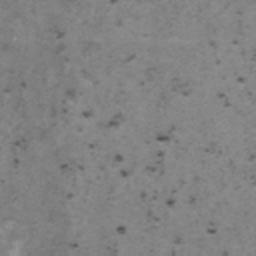Oxide scale of temperature system: (3, 38, 256, 256), (120, 52, 137, 67), (51, 28, 65, 42), (70, 241, 79, 250), (108, 0, 119, 5)
